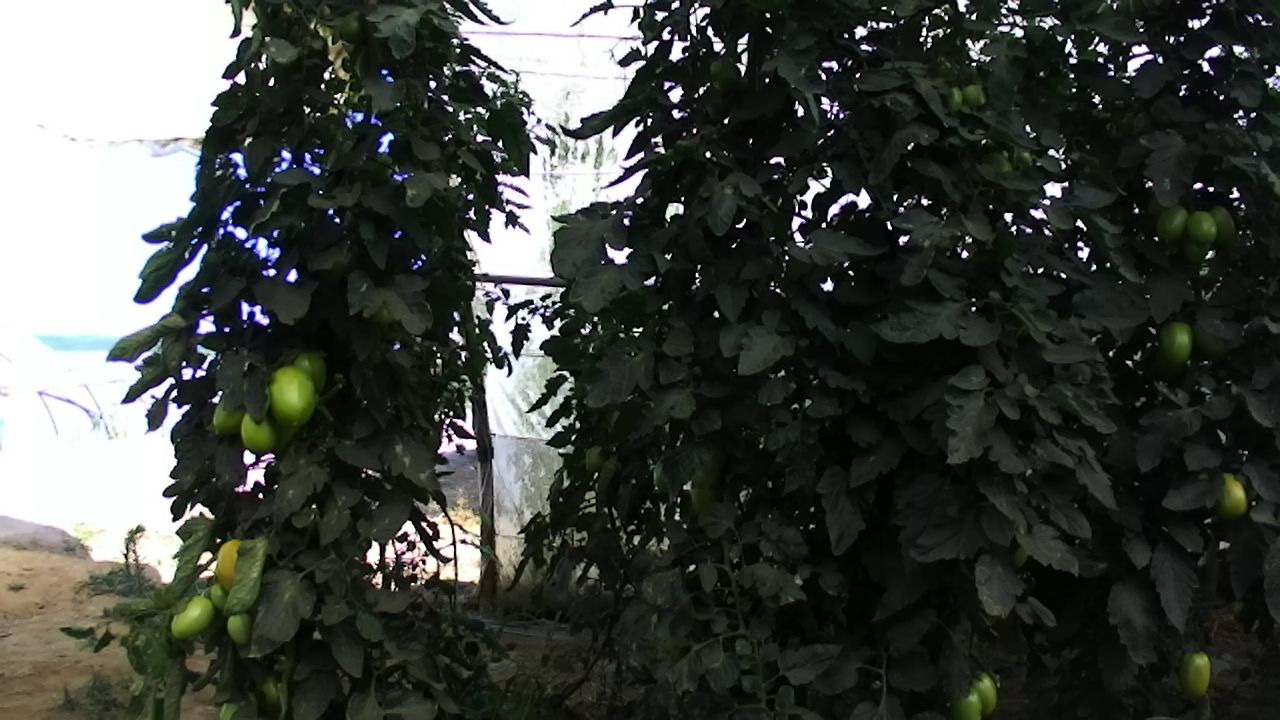unriped: (267, 367, 318, 430), (168, 593, 217, 640), (1155, 319, 1194, 370), (1176, 648, 1213, 699), (1214, 470, 1250, 520), (210, 394, 249, 438), (239, 413, 278, 455), (966, 670, 999, 717), (1185, 207, 1218, 248), (1154, 205, 1190, 242), (945, 684, 982, 720), (224, 610, 253, 646)
